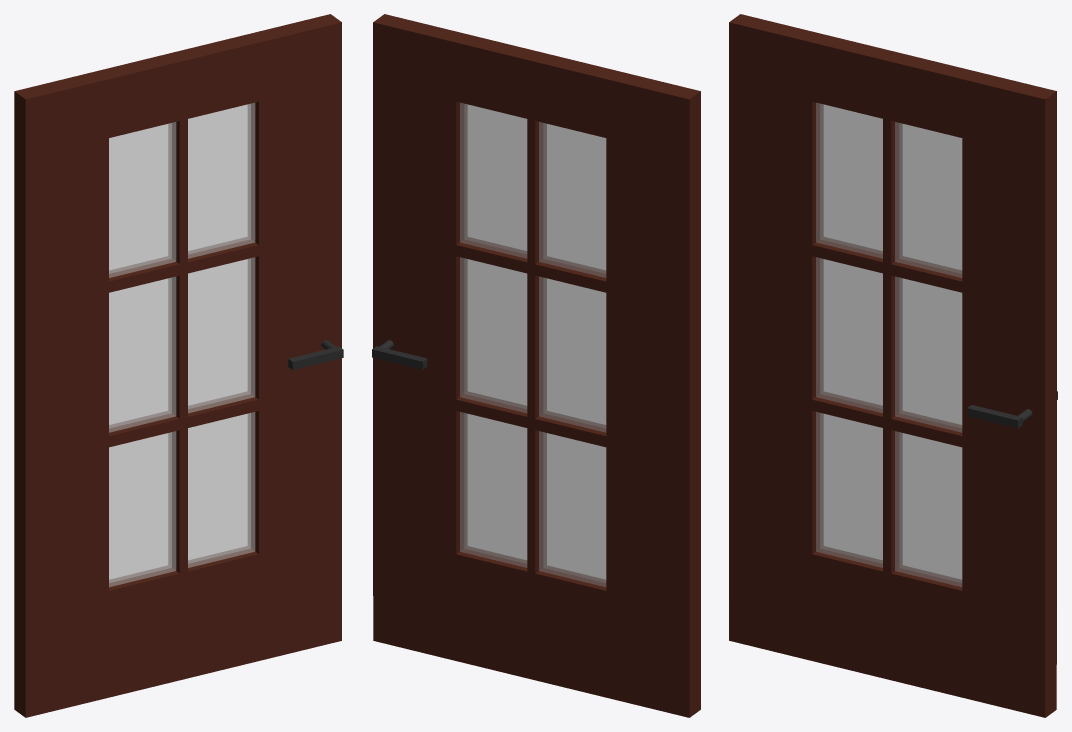
The model's file is Balken.fbx_T_r_Glas.fbx.
3 renders of one model, left to right at view 1: azimuth 30°, elevation 25°; view 2: azimuth 150°, elevation 25°; view 3: azimuth 330°, elevation 25°, orthographic.
Parts seen in each view (by area): view 1: TürGlas, Türklinke 1.001; view 2: TürGlas, Türklinke 2.001; view 3: TürGlas, Türklinke 1.001.
Boxes of the visible parts, bbox=[...] form: TürGlas: bbox=[14, 14, 341, 717]; Türklinke 1.001: bbox=[288, 340, 343, 369]; TürGlas: bbox=[373, 14, 700, 717]; Türklinke 2.001: bbox=[372, 340, 427, 369]; TürGlas: bbox=[729, 14, 1056, 717]; Türklinke 1.001: bbox=[967, 405, 1032, 428].
Size of the model in its own units: 1.19 by 2.23 by 0.2598.
